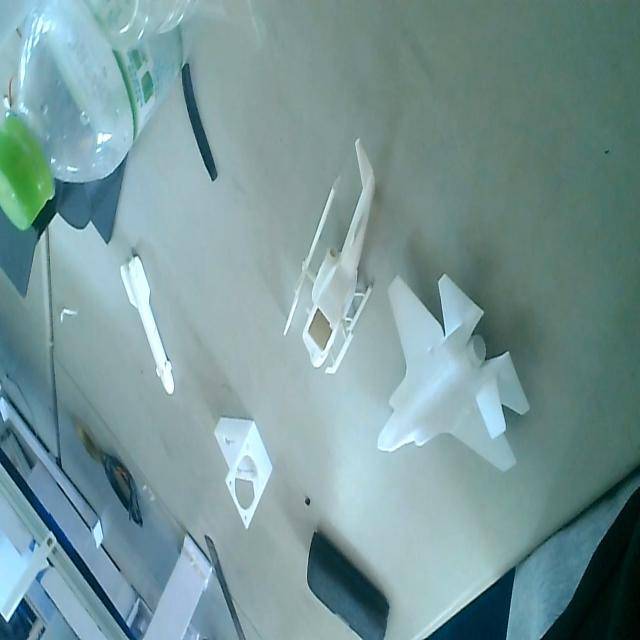Helicopter: (285, 133, 377, 384)
Jet: (376, 272, 528, 493)
Rocket: (114, 248, 180, 402)
